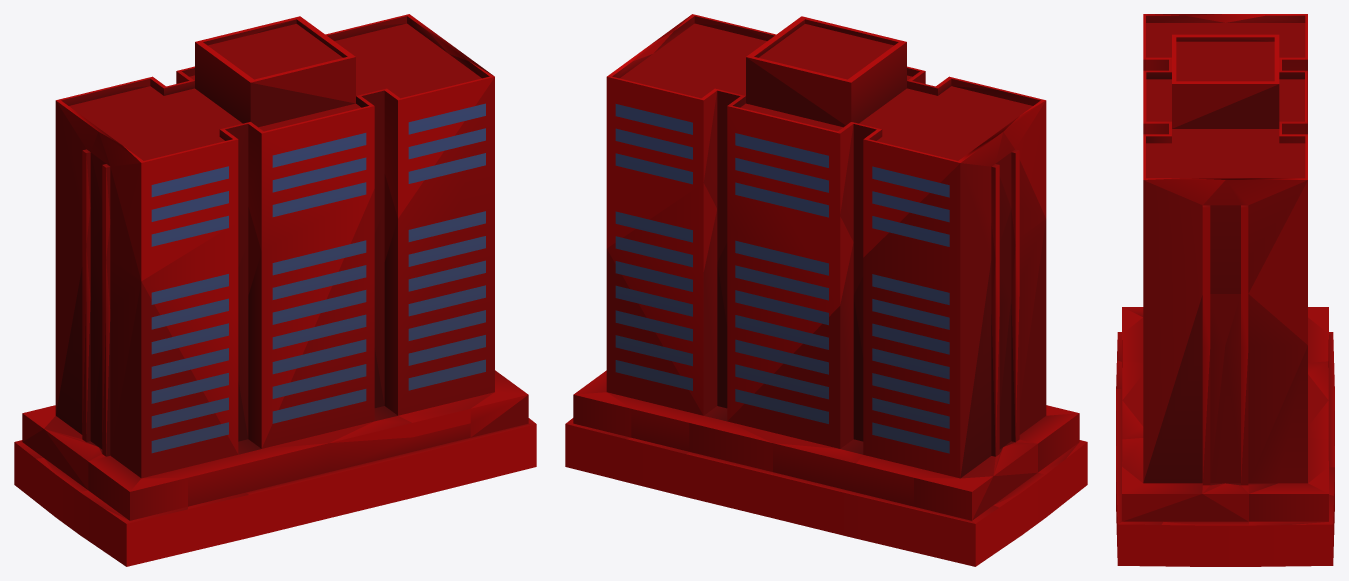
Rendered from buildings-industrial-wideofficebuilding_v1.fbx.
The picture shows the model from 3 angles, left to right: view 1: azimuth 30°, elevation 25°; view 2: azimuth 150°, elevation 25°; view 3: azimuth 270°, elevation 25°; orthographic projection. The views are drawn at different scales.
Parts seen in each view (by area): view 1: WideOfficeBuilding_v1_base, WideOfficeBuilding_v1_windowRefl; view 2: WideOfficeBuilding_v1_base, WideOfficeBuilding_v1_windowRefl; view 3: WideOfficeBuilding_v1_base.
Boxes of the visible parts, bbox=[...] form: WideOfficeBuilding_v1_base: bbox=[14, 14, 536, 566]; WideOfficeBuilding_v1_windowRefl: bbox=[151, 103, 485, 453]; WideOfficeBuilding_v1_base: bbox=[565, 14, 1087, 566]; WideOfficeBuilding_v1_windowRefl: bbox=[615, 104, 949, 453]; WideOfficeBuilding_v1_base: bbox=[1116, 14, 1334, 566].
Size of the model in its own units: 49.97 by 49.1 by 23.74.
